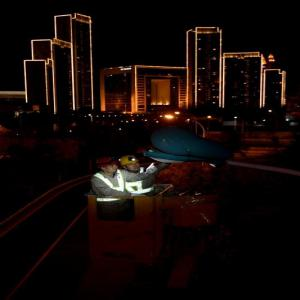red: (94, 156, 121, 175)
yellow: (118, 155, 142, 173)
